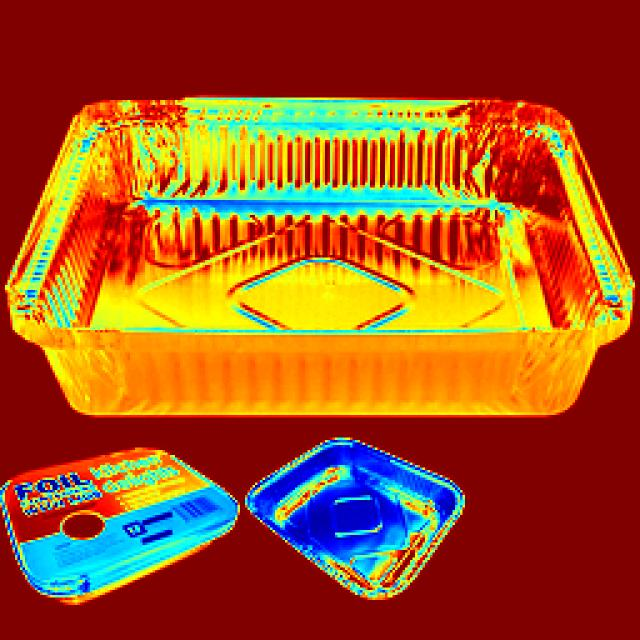Aluminium Food Cans: (3, 86, 615, 398), (0, 442, 230, 598), (241, 456, 453, 610)
